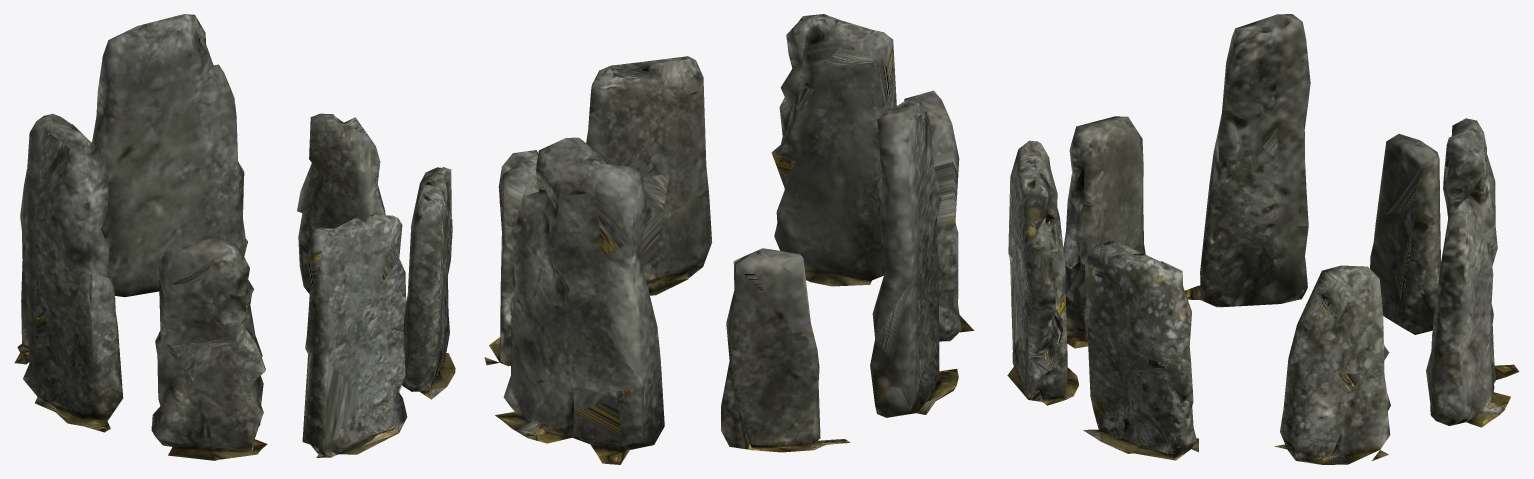
Rendered from stone_circle_lod2.glb.
3 renders of one model, left to right at view 1: azimuth 30°, elevation 25°; view 2: azimuth 150°, elevation 25°; view 3: azimuth 270°, elevation 25°, orthographic. The views are drawn at different scales.
Parts seen in each view (by area): view 1: stone_circle_lod2; view 2: stone_circle_lod2; view 3: stone_circle_lod2.
Boxes of the visible parts, x1,y1,x2,y2 form: stone_circle_lod2: (14,14,455,460); stone_circle_lod2: (484,14,974,464); stone_circle_lod2: (1007,14,1519,464).
Bounding box in the file's own units: 22.39 × 16.1 × 27.
1 material, 1 textured.
